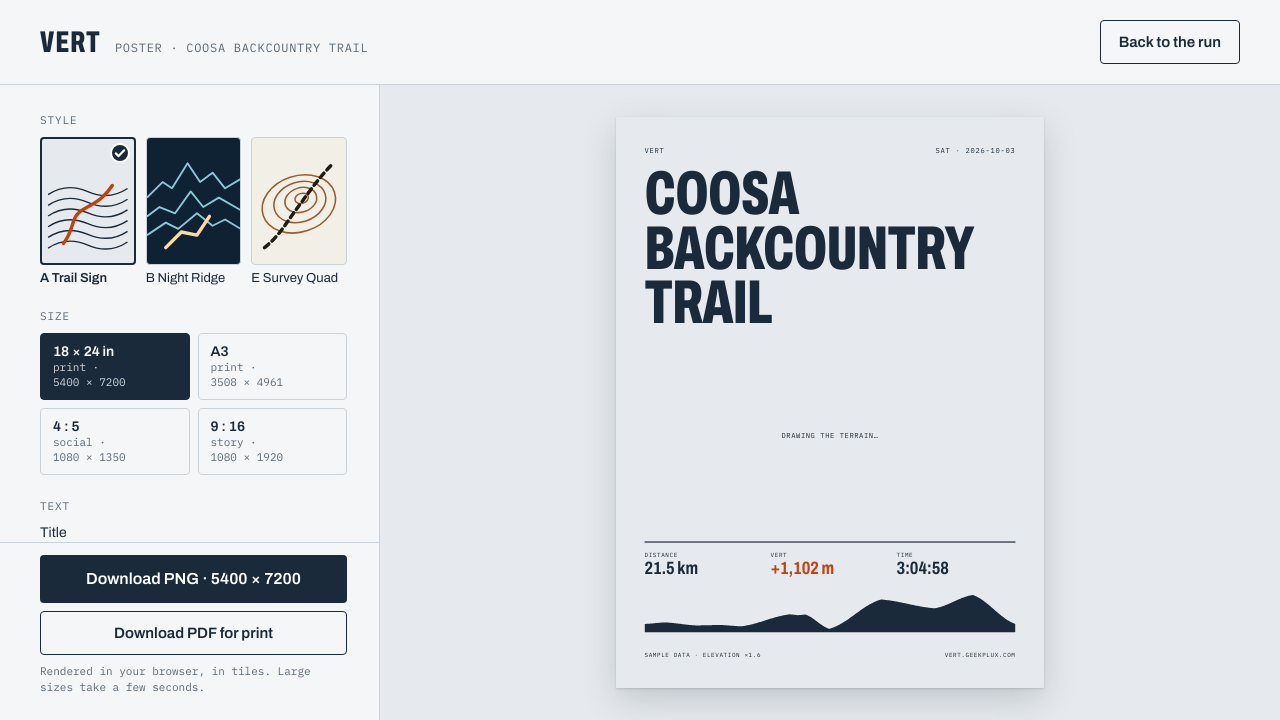
Exporting overlay › appears under Download with the bar, the label and Cancel, and takes focus
Click the button "Download PNG · 5400 × 7200" at (194, 579), box [40,555,347,603]
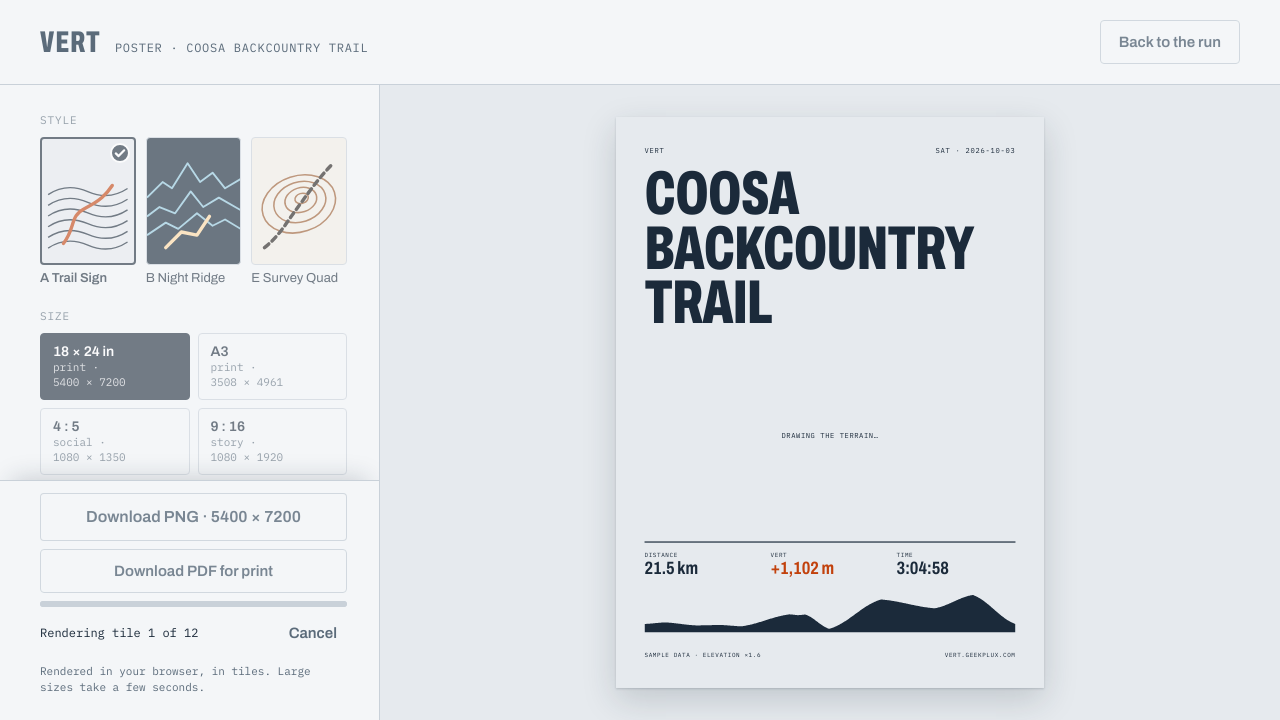
Check: the text "Rendering tile 1 of 12" is shown, box [40,624,198,642]
